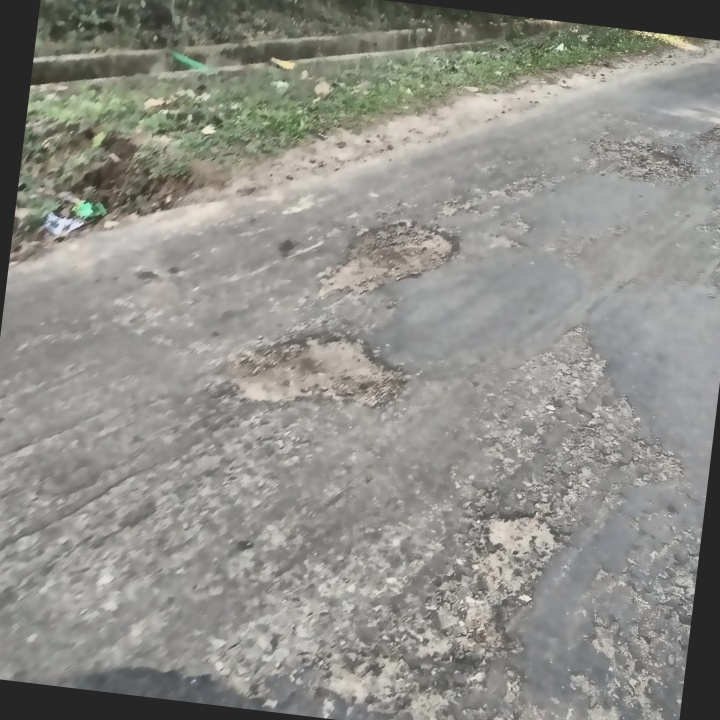pothole: (228, 316, 415, 426), (323, 210, 469, 311), (480, 502, 570, 571), (597, 134, 694, 189), (697, 118, 720, 155)
